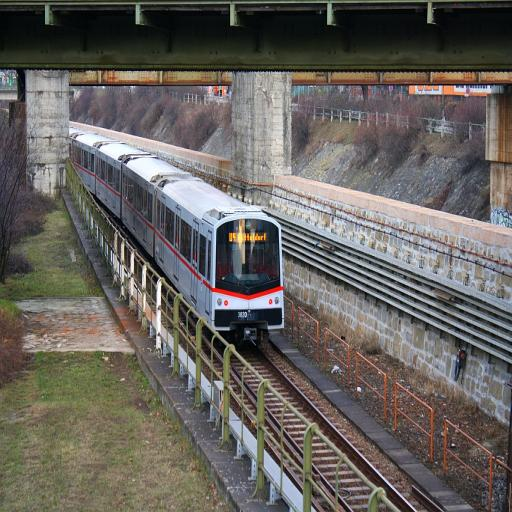V-Wagen: (70, 129, 286, 332)
